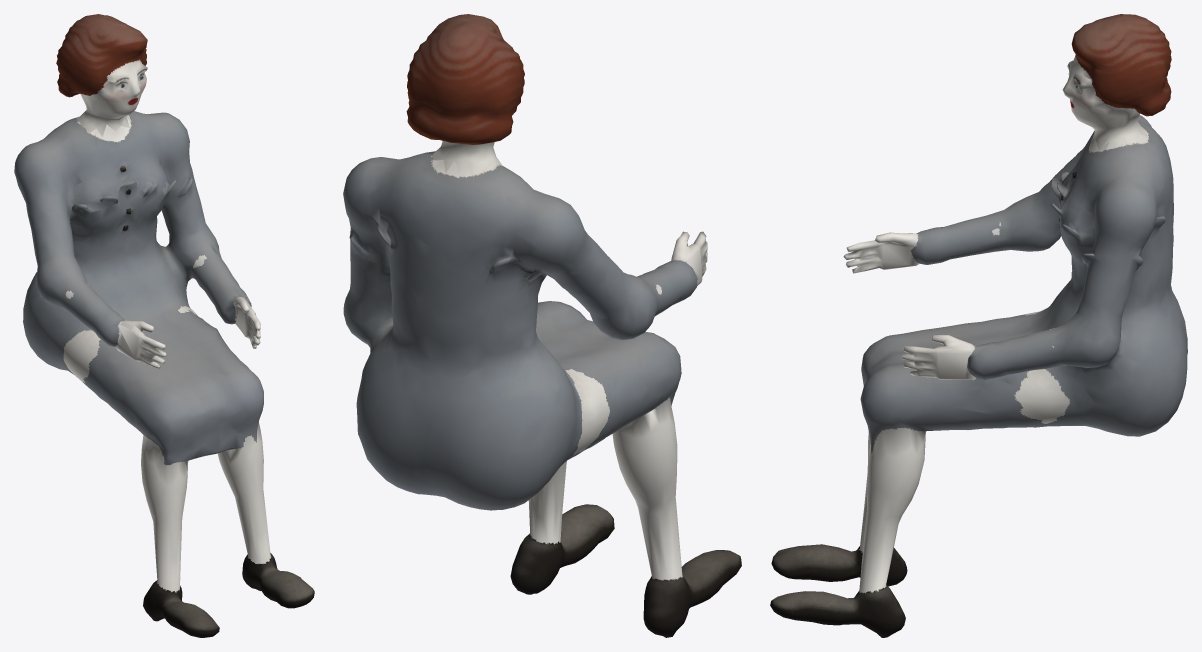
File: mq_woman_sit.glb
The picture shows the model from 3 angles, left to right: view 1: azimuth 30°, elevation 25°; view 2: azimuth 150°, elevation 25°; view 3: azimuth 270°, elevation 25°; orthographic projection. The views are drawn at different scales.
Parts seen in each view (by area): view 1: mq_woman_sit, mq_woman_sit_head; view 2: mq_woman_sit, mq_woman_sit_head; view 3: mq_woman_sit, mq_woman_sit_head.
Boxes of the visible parts, x1,y1,x2,y2 form: mq_woman_sit: (14, 111, 314, 637); mq_woman_sit_head: (56, 14, 147, 136); mq_woman_sit: (343, 151, 741, 637); mq_woman_sit_head: (406, 14, 524, 176); mq_woman_sit: (770, 115, 1187, 637); mq_woman_sit_head: (1062, 14, 1171, 153).
Bounding box in the file's own units: 0.5462 × 1.35 × 0.8585.
Materials: 1 (1 with a texture image).
